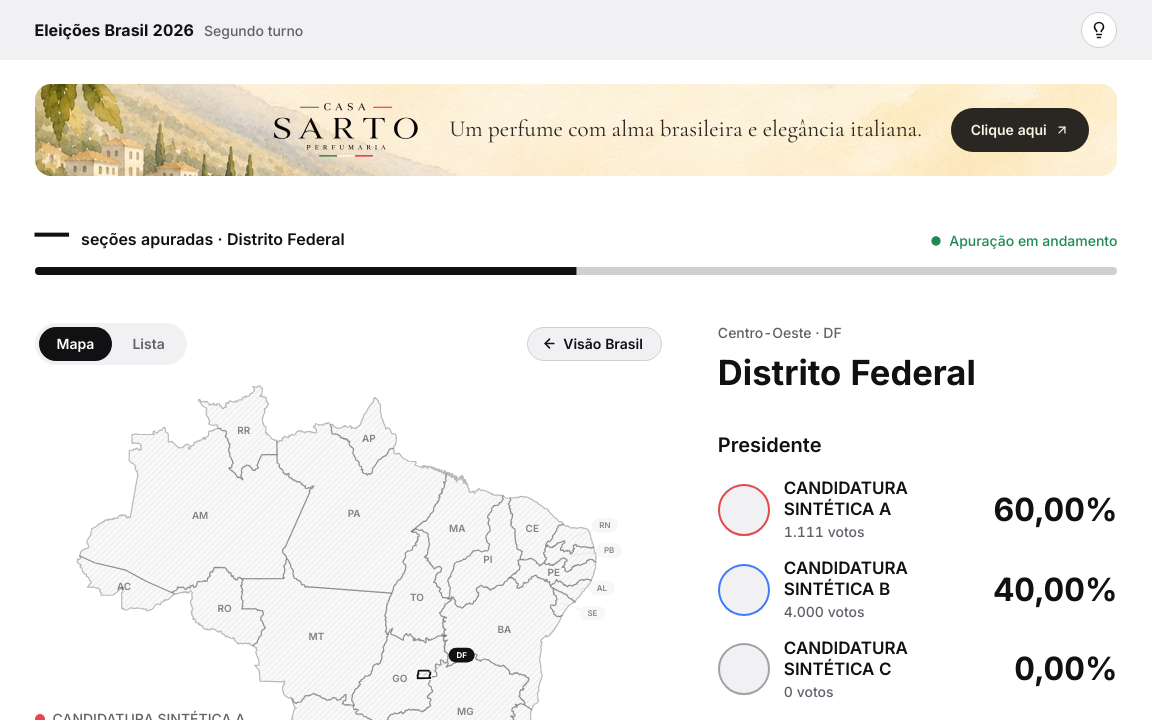
Test: PresidentPage › deve voltar à visão Brasil pelo botão do painel
Check: the heading "Presidente" is shown, box x1=718 y1=433 x2=822 y2=457
What coordinates should you click on to do the following:
click the button "Visão Brasil"
I would click on:
 (595, 344)
Its box is x1=527 y1=327 x2=662 y2=361.
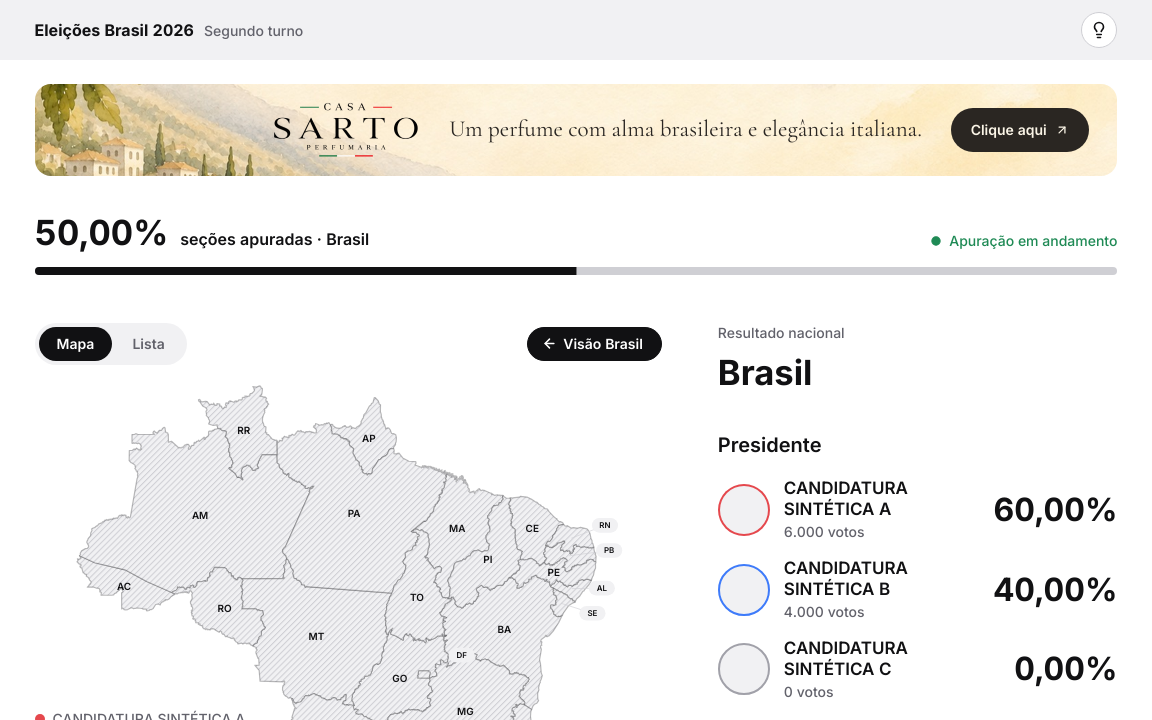
Check: the heading "Presidente" is shown, box x1=718 y1=433 x2=822 y2=457
Check: the heading "Brasil" is shown, box x1=718 y1=352 x2=812 y2=393
